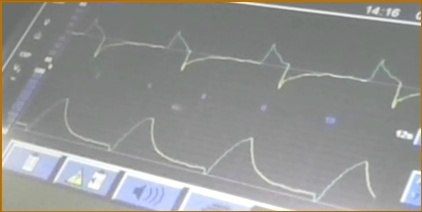Flow: (70, 14, 417, 111)
Leakage Volume: (16, 96, 377, 204)
